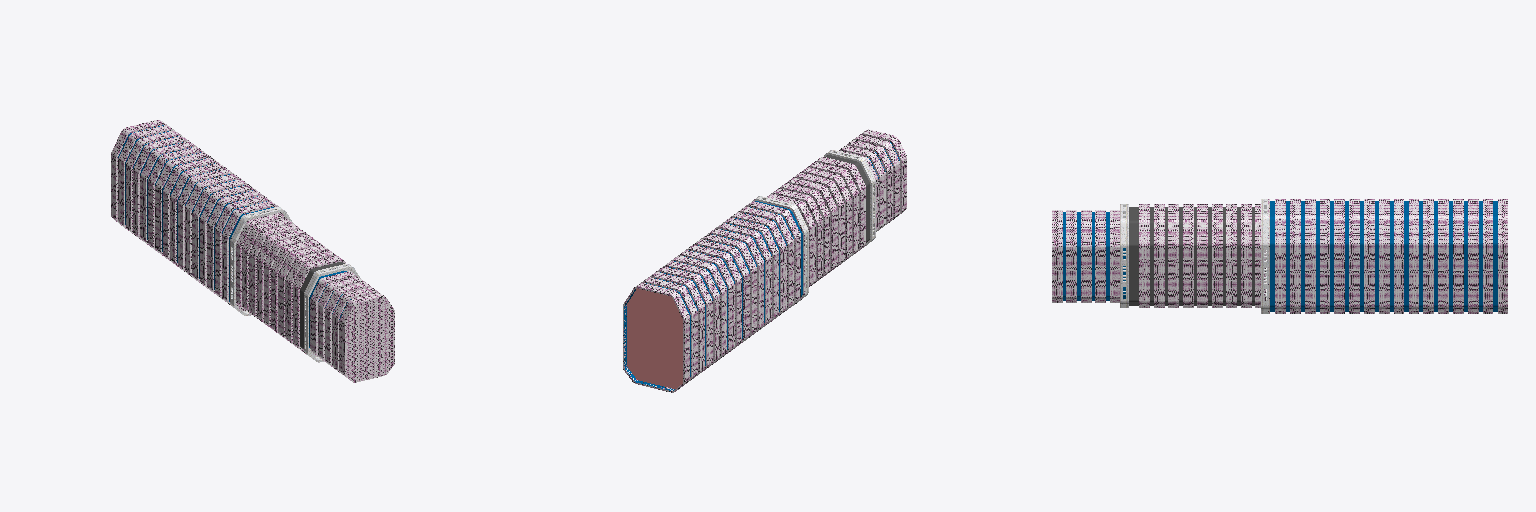
The picture shows the model from 3 angles: view 1: azimuth 30°, elevation 25°; view 2: azimuth 150°, elevation 25°; view 3: azimuth 270°, elevation 25°; orthographic projection.
Visible parts, largest first — view 1: Wall_02, Wall_01, wall_1_01, Glass_01, Glass_2nd_lvl_01; view 2: Wall_02, Wall_01, slab_01, Glass_01, wall_1_01, Glass_2nd_lvl_01; view 3: Wall_01, Wall_02, Glass_01, Glass_2nd_lvl_01, wall_1_01, Glass_3rd_lvl_01.
Boxes of the visible parts, x1=… form: Wall_02: x1=116, y1=124, x2=394, y2=382; Wall_01: x1=111, y1=120, x2=277, y2=304; wall_1_01: x1=230, y1=207, x2=360, y2=362; Glass_01: x1=118, y1=125, x2=273, y2=301; Glass_2nd_lvl_01: x1=242, y1=227, x2=344, y2=348; Wall_02: x1=623, y1=129, x2=906, y2=392; Wall_01: x1=624, y1=201, x2=800, y2=390; slab_01: x1=627, y1=288, x2=682, y2=388; Glass_01: x1=624, y1=201, x2=802, y2=390; wall_1_01: x1=752, y1=150, x2=875, y2=305; Glass_2nd_lvl_01: x1=798, y1=155, x2=869, y2=242; Wall_01: x1=1275, y1=199, x2=1507, y2=313; Wall_02: x1=1052, y1=199, x2=1269, y2=312; Glass_01: x1=1270, y1=201, x2=1497, y2=311; Glass_2nd_lvl_01: x1=1129, y1=207, x2=1254, y2=305; wall_1_01: x1=1120, y1=199, x2=1269, y2=313; Glass_3rd_lvl_01: x1=1063, y1=212, x2=1125, y2=300.
Bounding box in the file's own units: 585 × 878 × 3696.
5 materials, 2 textured.